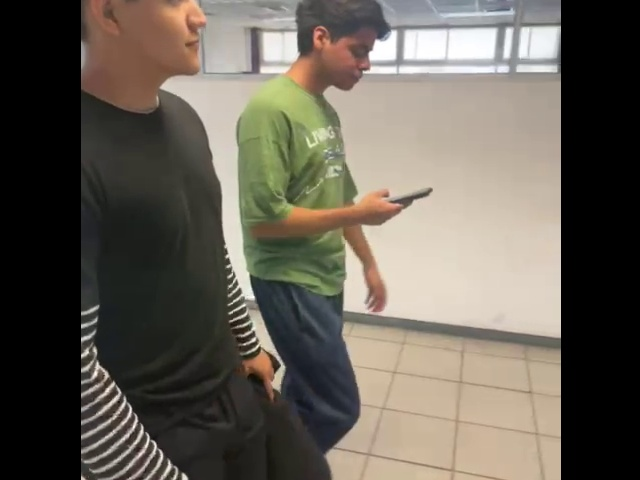mixto2: (381, 174, 438, 208)
